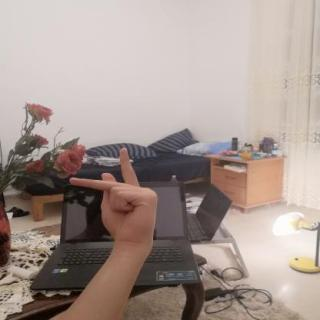DHAA: (60, 140, 164, 250)
